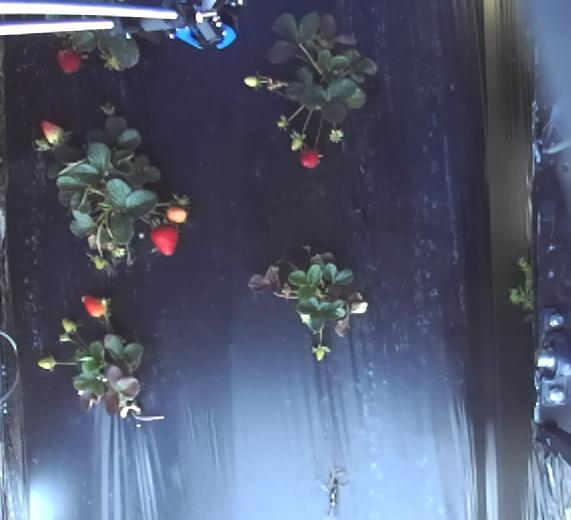mature: (149, 224, 179, 256), (80, 293, 111, 318), (56, 47, 81, 74), (298, 147, 323, 169)
